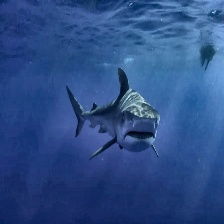shark: (67, 67, 161, 161)
